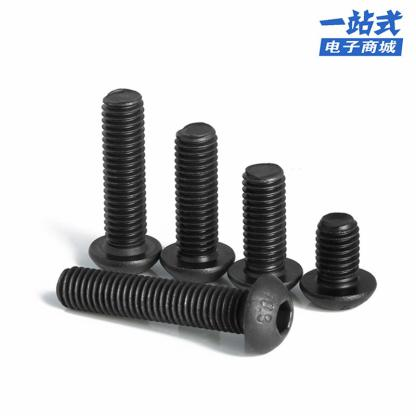FOD: (54, 263, 298, 356), (85, 84, 165, 278), (158, 119, 237, 286), (224, 160, 305, 298), (296, 210, 378, 312)
